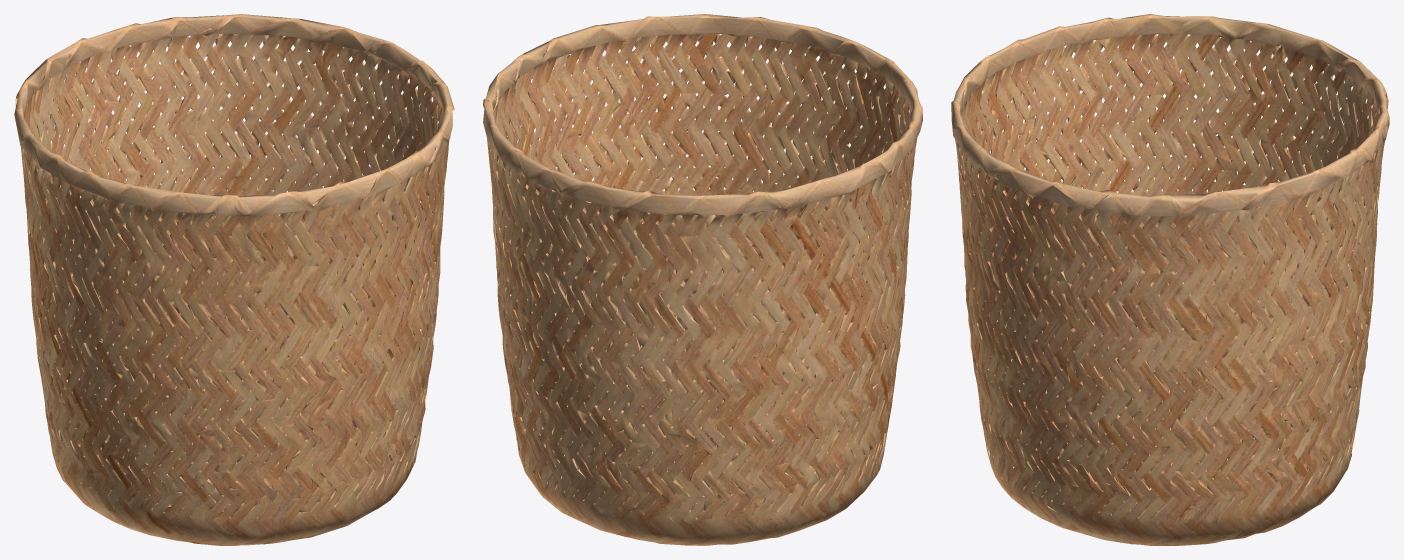
File: klynnon_osonka_doniczki_20516408.glb
The picture shows the model from 3 angles, left to right: view 1: azimuth 30°, elevation 25°; view 2: azimuth 150°, elevation 25°; view 3: azimuth 270°, elevation 25°; orthographic projection.
Parts seen in each view (by area): view 1: klynnon_osonka_doniczki_20516408; view 2: klynnon_osonka_doniczki_20516408; view 3: klynnon_osonka_doniczki_20516408.
Boxes of the visible parts, <box> form: klynnon_osonka_doniczki_20516408: <box>14,14,454,545</box>; klynnon_osonka_doniczki_20516408: <box>483,14,922,545</box>; klynnon_osonka_doniczki_20516408: <box>951,14,1389,545</box>.
Size of the model in its own units: 0.2699 by 0.2614 by 0.2693.
2 materials, 2 textured.
